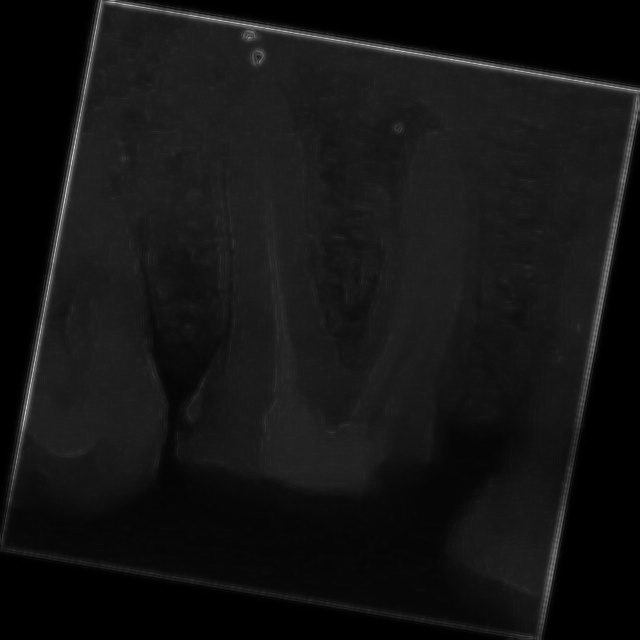Class 1- complete endodontic treatment: (126, 41, 526, 548)
